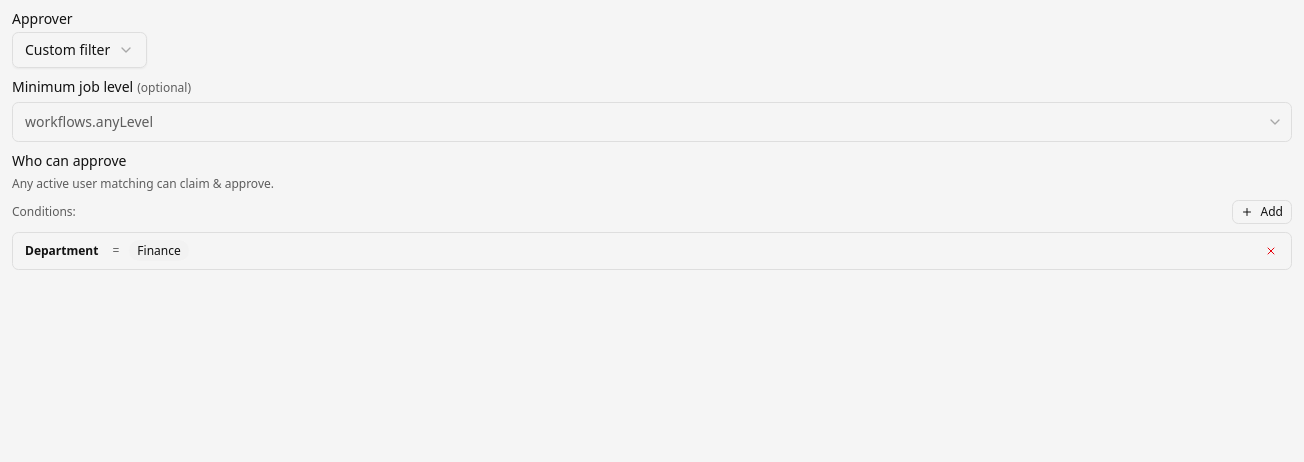
Test case: the approver field › restricts the who-can-approve condition to the approver’s own attributes
Click the button titled "Change field".
click(62, 250)  # box [21,242,102,258]
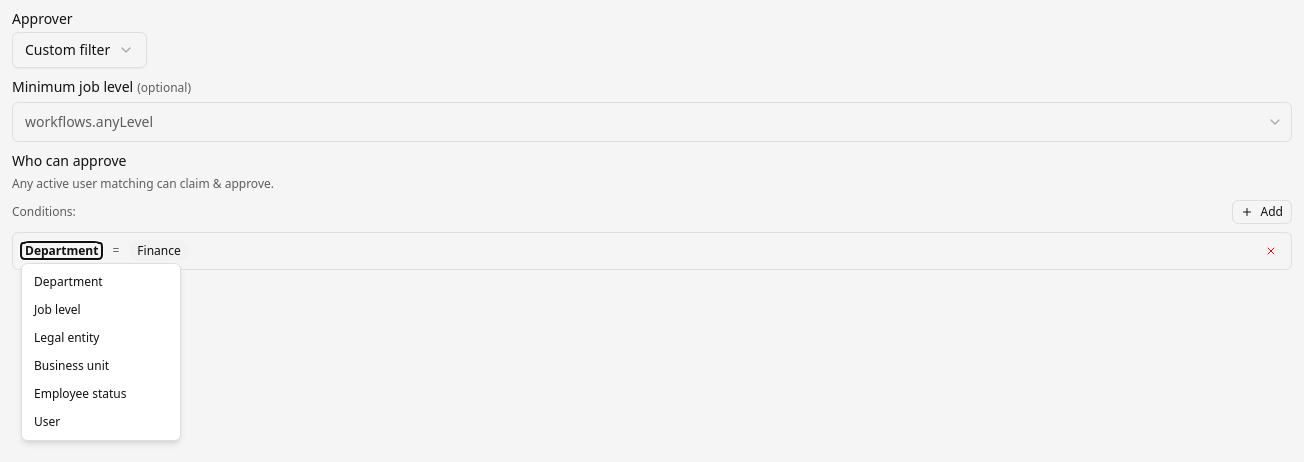
Now the button "Job level" is shown, box [22,296,180,324]
